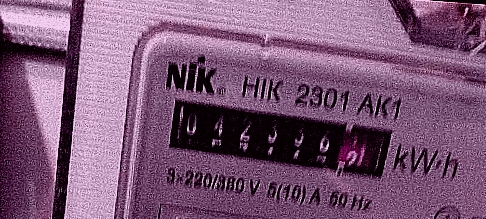0: (183, 107, 198, 137)
2: (235, 113, 255, 141)
3: (262, 115, 280, 145), (291, 118, 307, 147)
4: (209, 110, 227, 138)
6: (315, 126, 332, 154)
screen: (156, 88, 401, 187)
